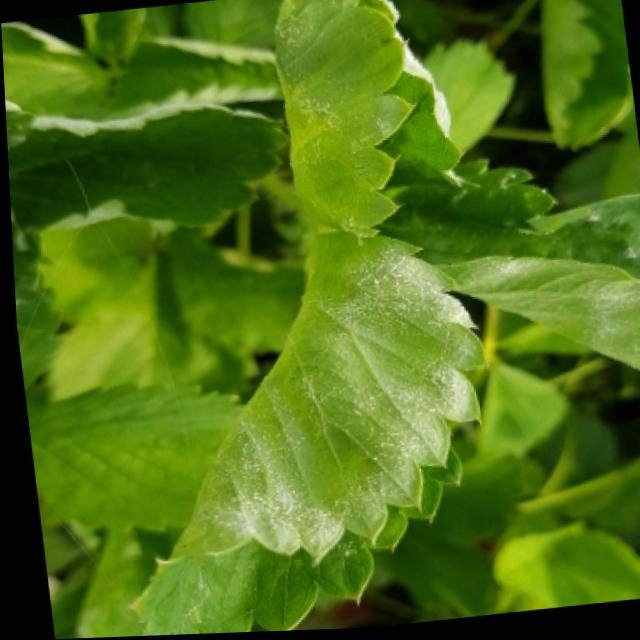Powdery Mildew Leaf: (123, 230, 485, 637), (377, 157, 640, 380), (270, 0, 461, 242), (6, 98, 289, 234)
